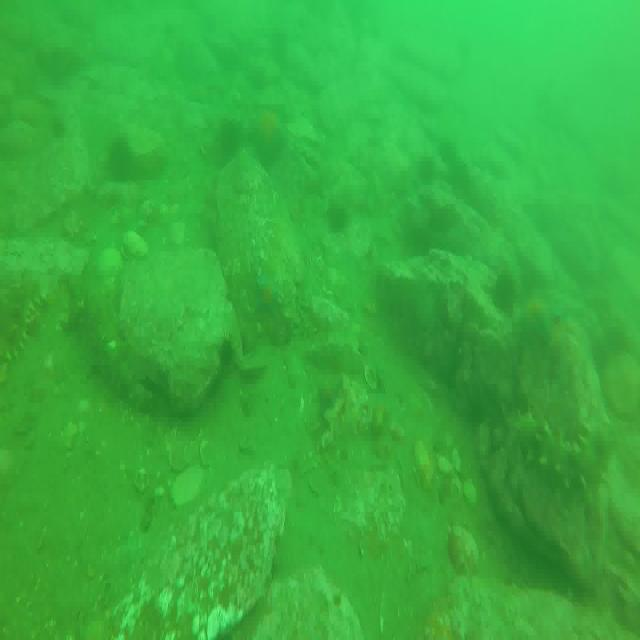echinus: (492, 271, 520, 309), (219, 115, 243, 156), (330, 201, 352, 230), (219, 336, 236, 372)
holothurian: (518, 409, 608, 496)
starfish: (248, 104, 291, 171), (514, 298, 566, 351), (251, 275, 281, 321)
